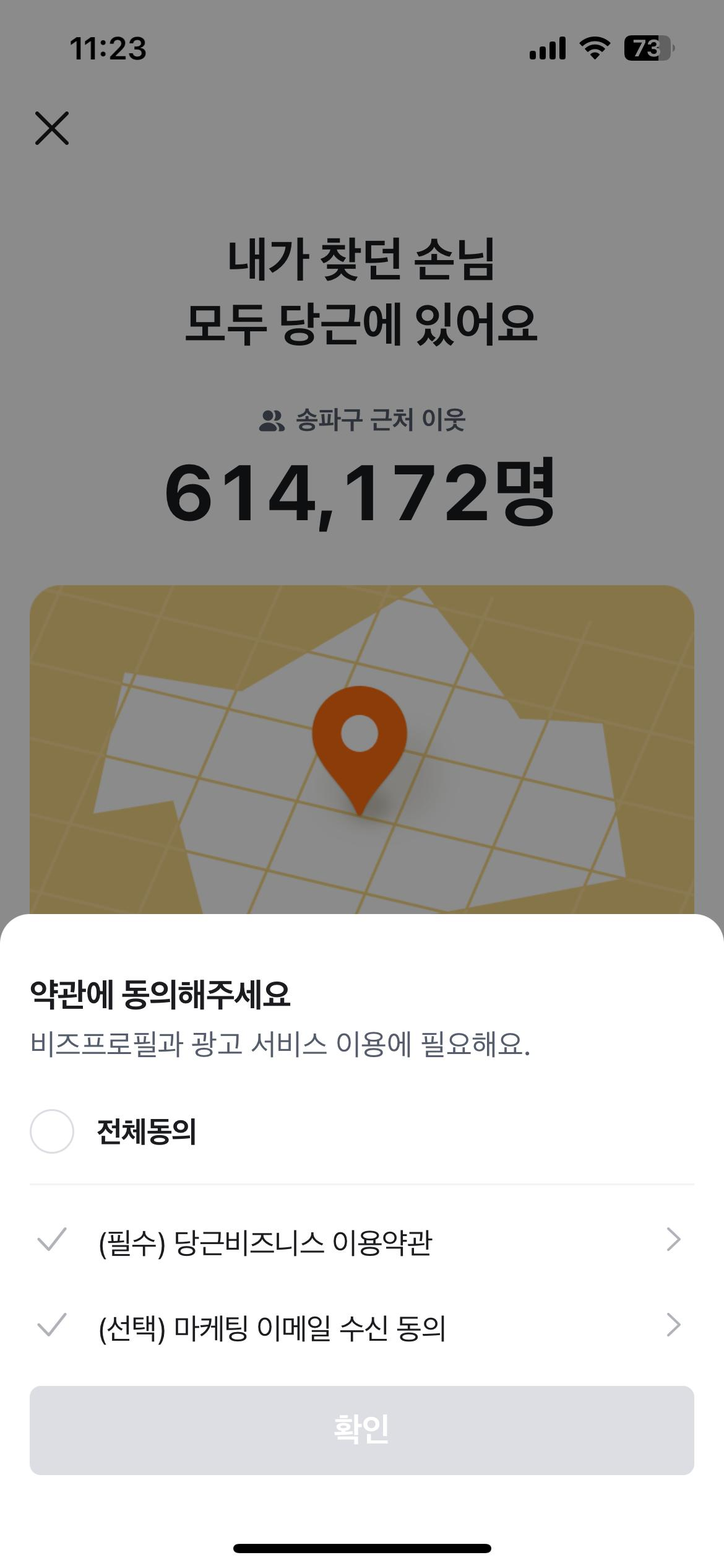button: (25, 1383, 702, 1483), (22, 81, 96, 176)
checkbox: (24, 1203, 701, 1273), (25, 1297, 701, 1363), (17, 1092, 218, 1178)
